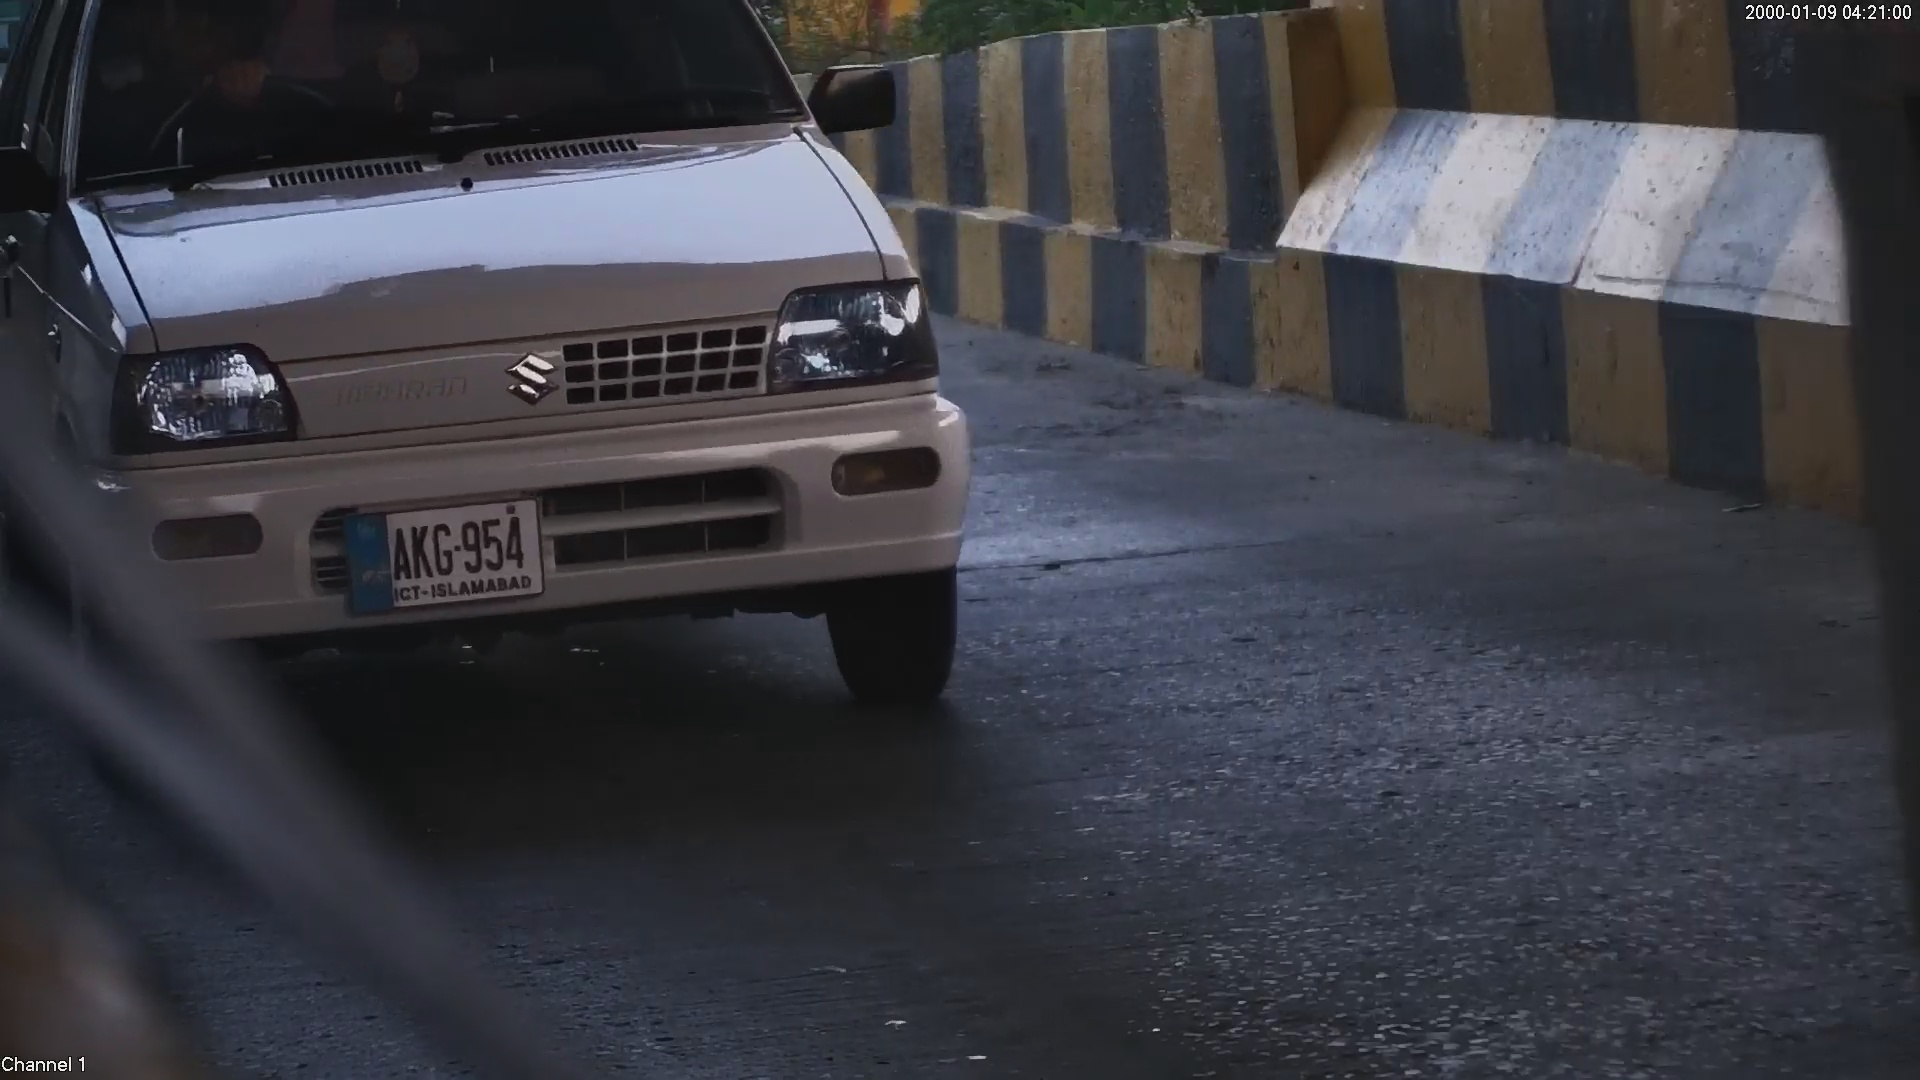Number_Plate: (356, 501, 558, 609)
Undefined: (310, 344, 482, 418), (489, 338, 573, 414)
